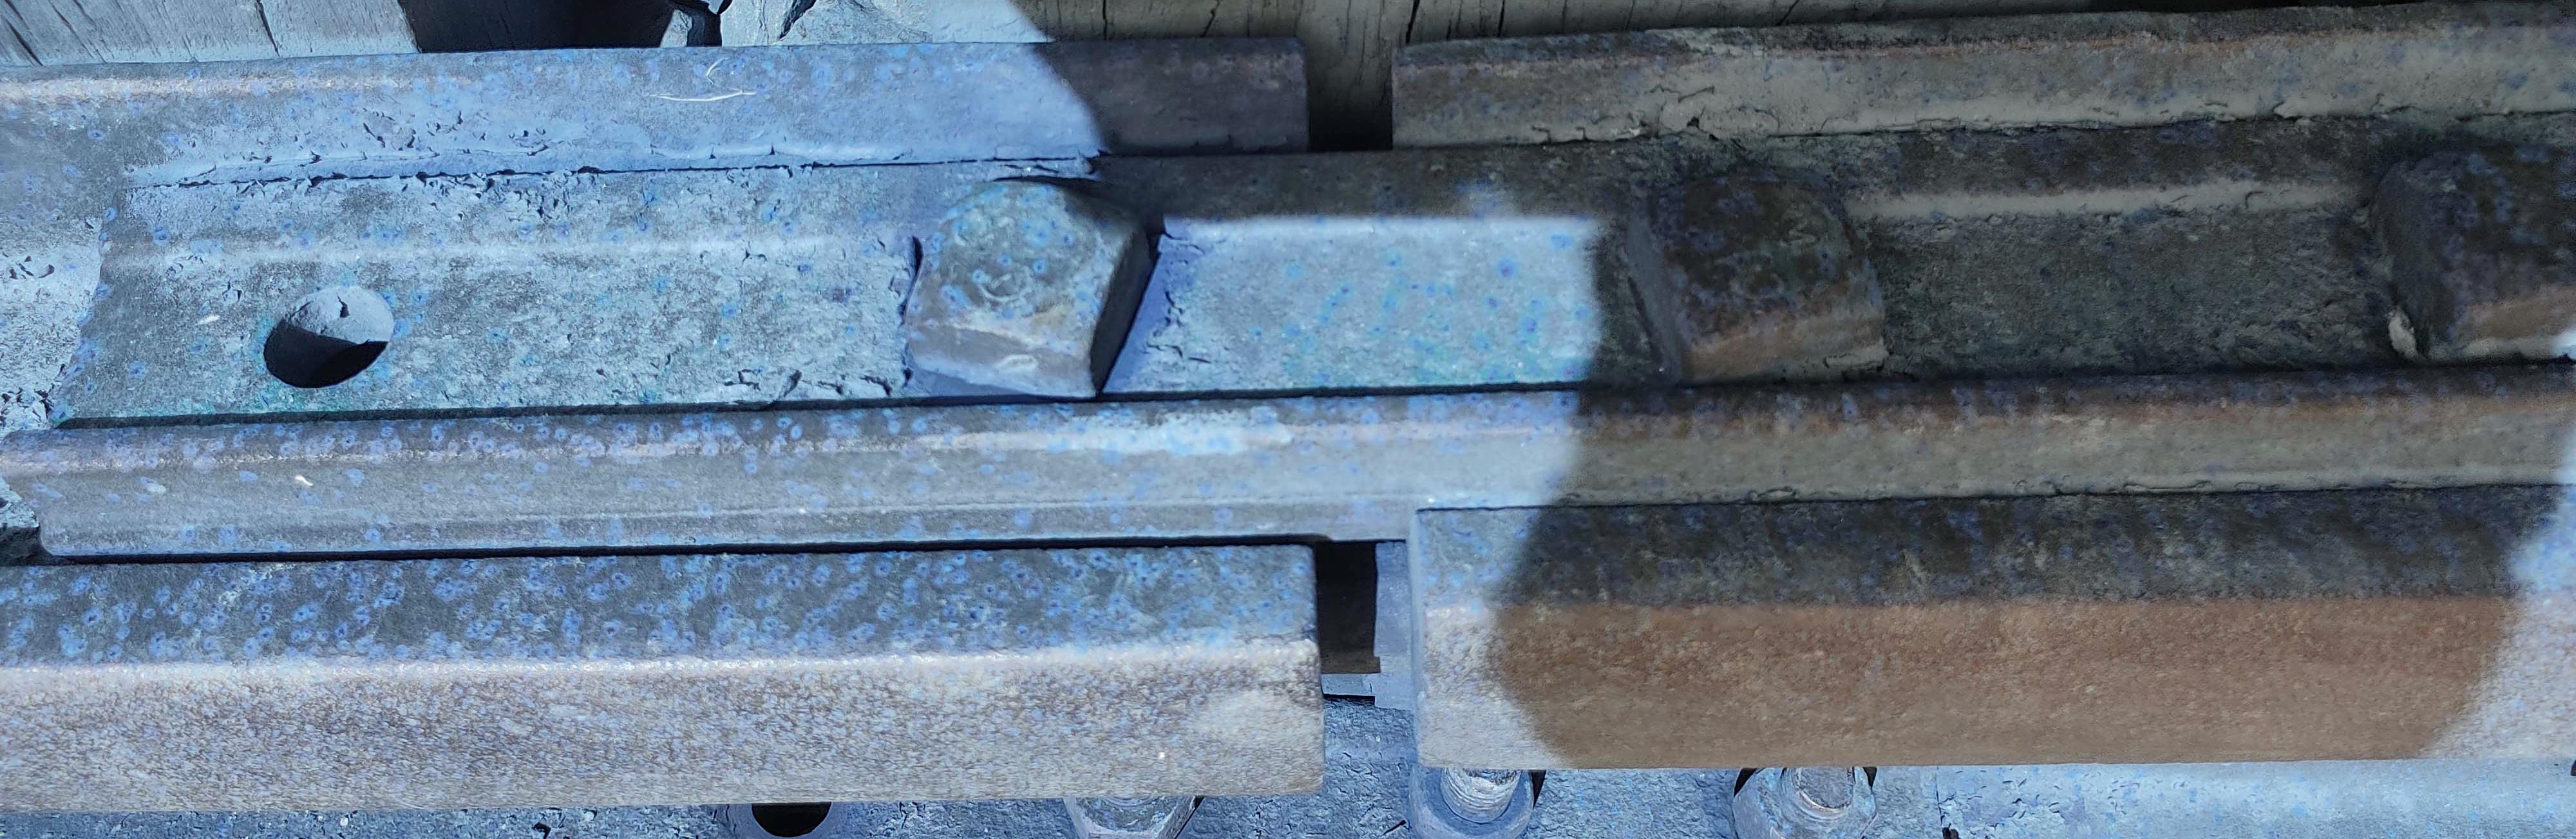error2: (835, 67, 1247, 479), (1265, 438, 1528, 801)
